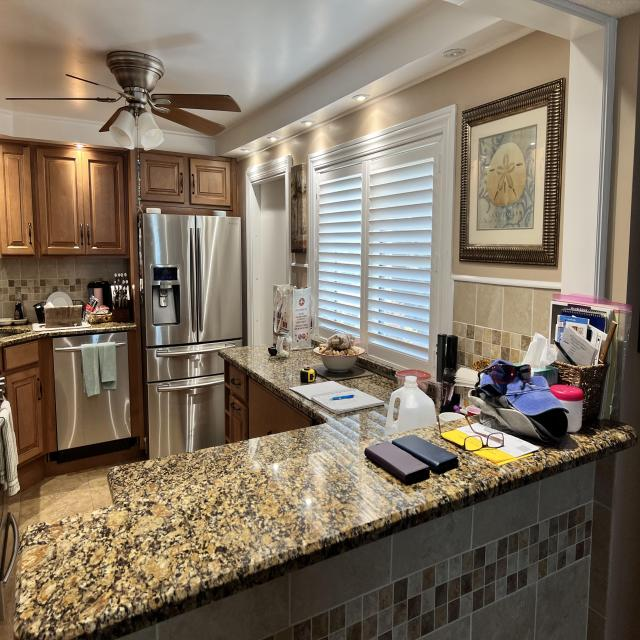Appliance_Dishwasher: (53, 333, 131, 450)
Appliance_Fridge: (141, 212, 243, 460)
Appliance_Oven: (0, 376, 20, 640)
Cabinet_Flat: (4, 341, 38, 369)
Cabinet_Raised_Panel: (0, 138, 131, 257), (140, 153, 232, 208), (6, 367, 42, 462), (225, 362, 250, 444)
Countertop_Granite: (15, 426, 638, 640), (107, 347, 385, 499), (0, 324, 133, 372), (339, 376, 397, 402)
